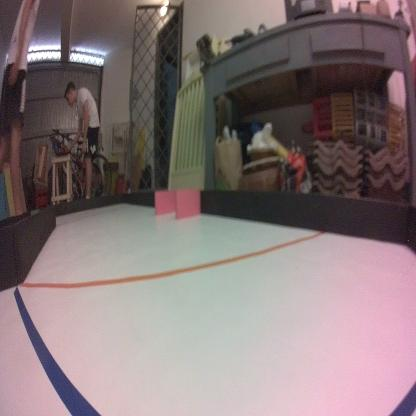magenta: (175, 188, 199, 217), (154, 190, 178, 216)
